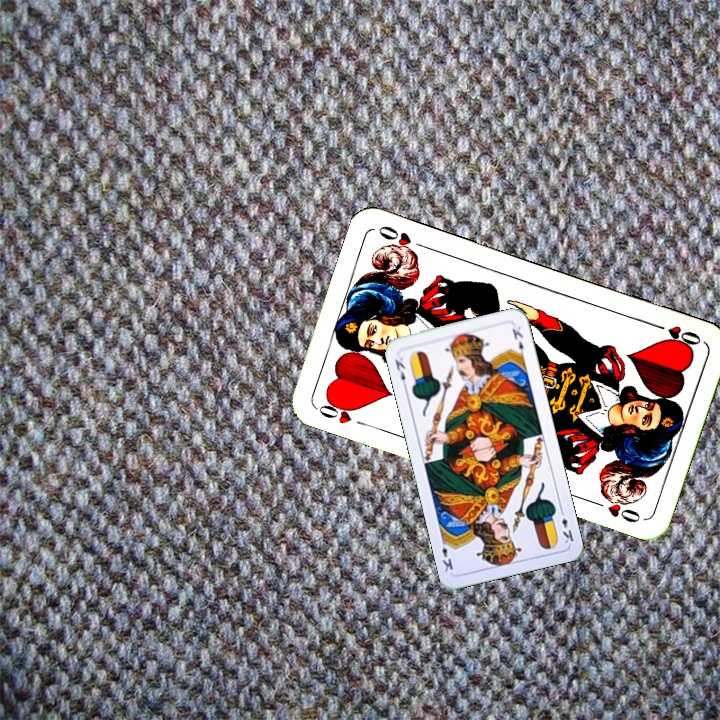EK: (556, 505, 576, 546), (391, 353, 409, 391)
HO: (647, 319, 704, 352), (312, 394, 361, 427)
